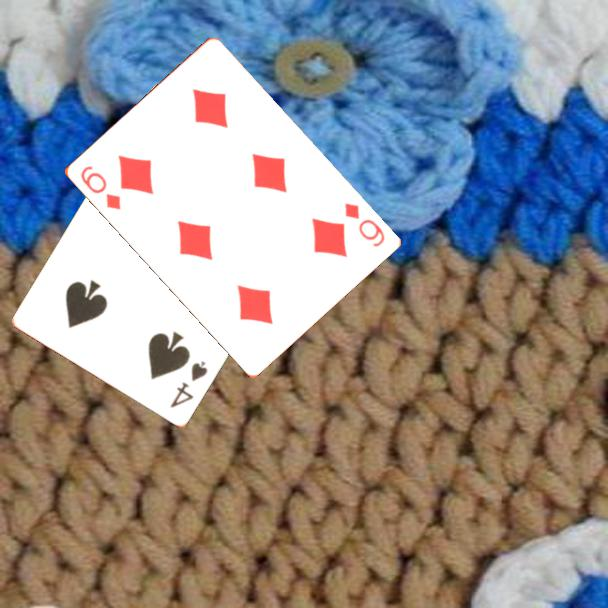d06: (76, 162, 123, 213), (340, 199, 387, 250)
s04: (166, 358, 211, 412)
